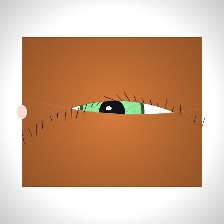pinguecula_lesion: (157, 101, 206, 140)
